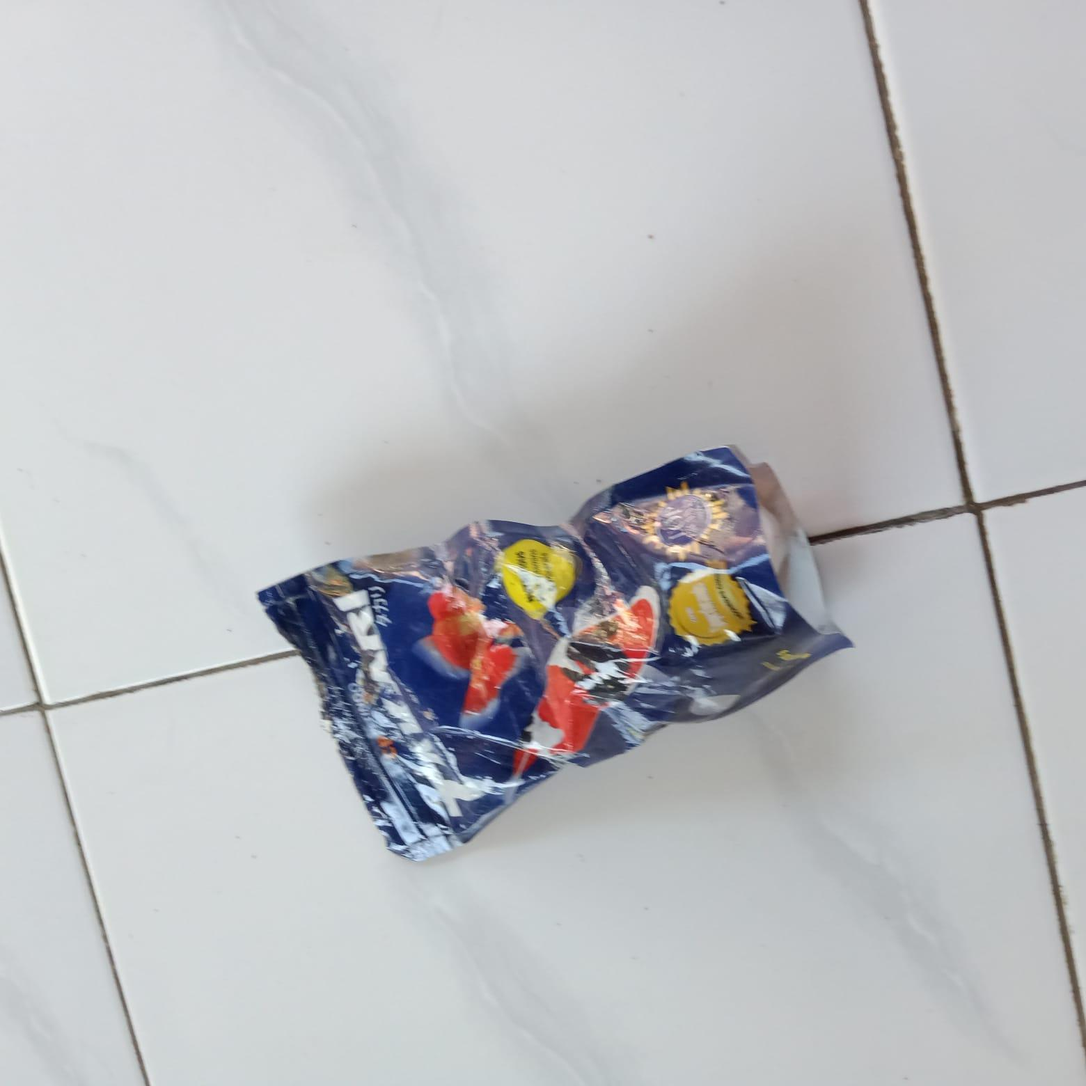Plastik: (256, 446, 857, 861)
